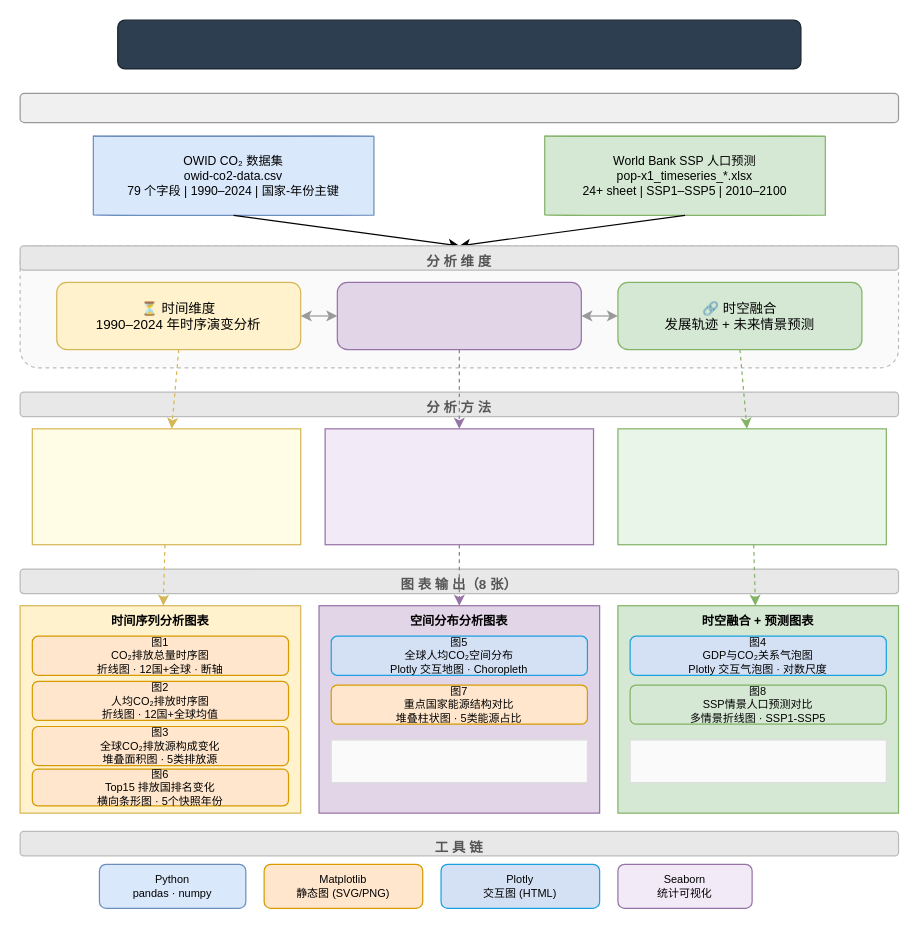
This 919x928 diagram has some shape labels left out. The centre of each missing label's shape, as x and y in pixels:
"全球碳排放与能源结构时空可视化分析框架" goes at (x=459, y=44).
"关联与预测分析 • 对数散点气泡图 • 脱钩指数构建 • SSP 情景对比 • 交互式可视化 • 碳排放强度分析" goes at (x=751, y=486).
"发展轨迹关联 + 排放强度+ 气候变化情景预测" goes at (x=757, y=761).
"数 据 层" goes at (x=459, y=107).
"时间序列分析 • 趋势线绘制 (折线图) • 5年滑动平均平滑 • 堆叠面积图分解 • 排名动态变化 • 断轴可视化技术" goes at (x=166, y=486).
"空间对比分析 • 横向柱状图对比 • 横向条形图排名 • Choropleth 地图 • 堆叠柱状图结构 • 多国面板可视化" goes at (x=459, y=486).
"空间维度展示：国别差异、全球格局、结构对比" goes at (x=458, y=761).
"🌍 空间维度 12 国对比 + 全球分布格局" goes at (x=458, y=315).
